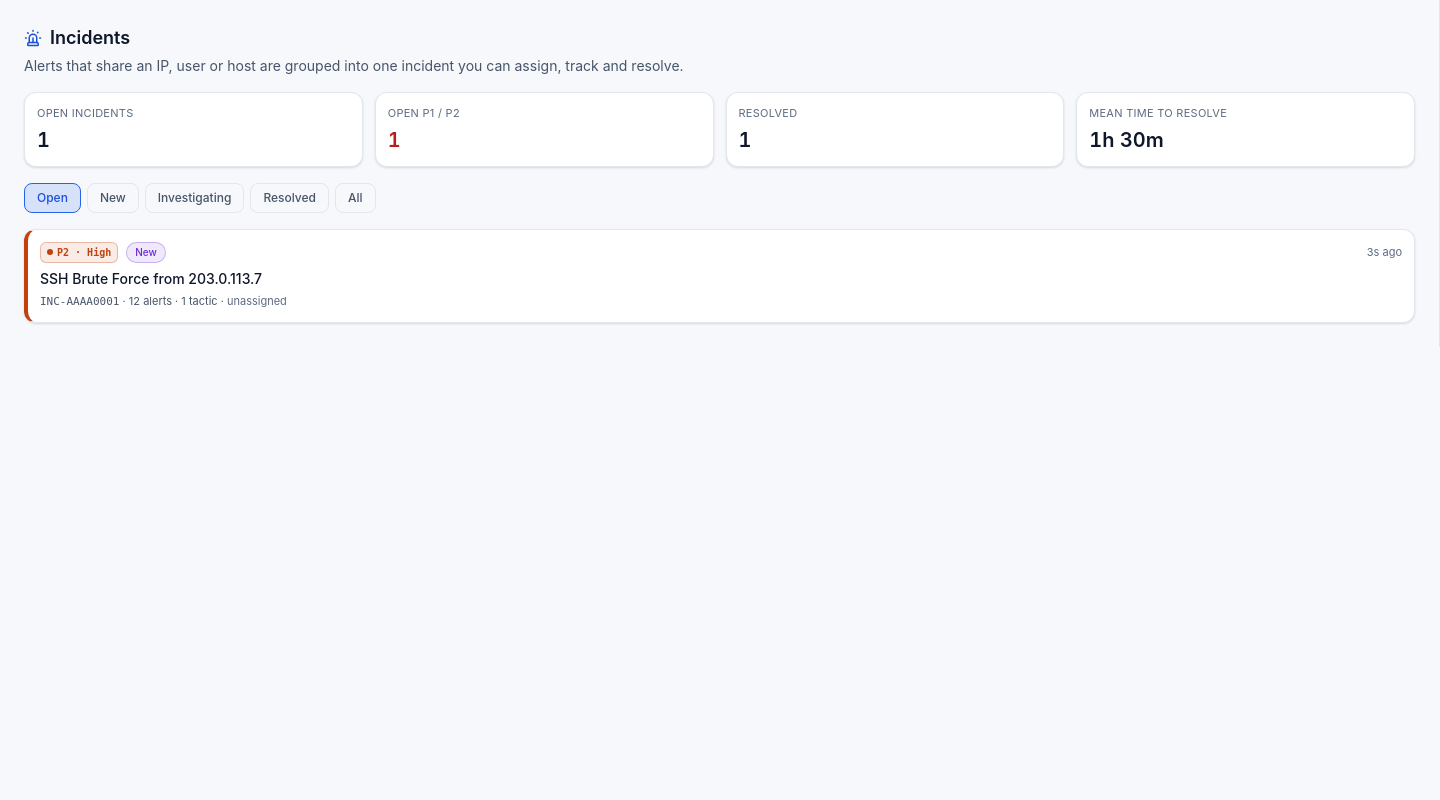
Incidents page › filters by an entity from the detail view
The width and height of the screenshot is (1440, 800).
Click the text "SSH Brute Force from 203.0.113.7". click: (151, 278)
box: [40,270,262,286]
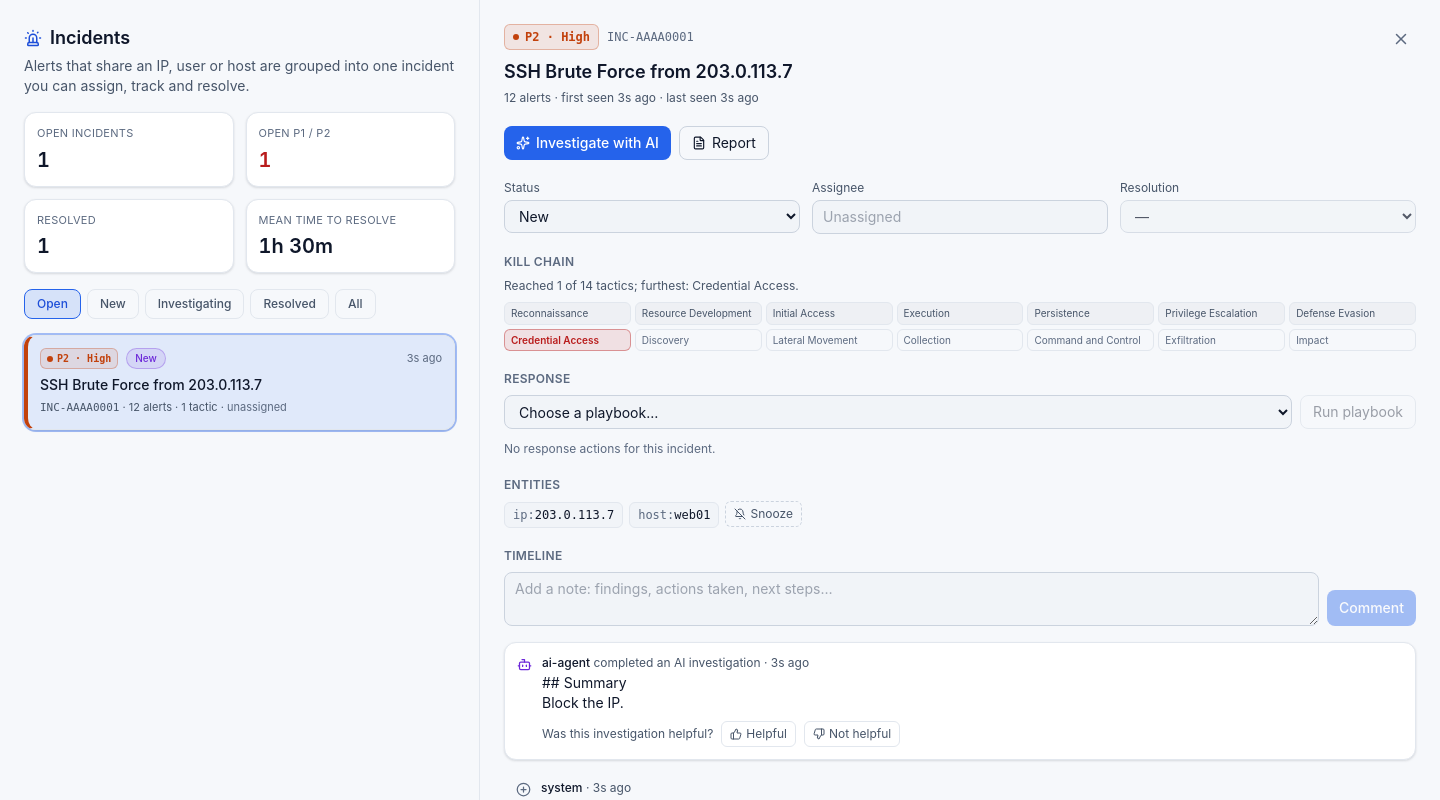
Click the button "ip:203.0.113.7". click: (564, 515)
box: [504,502,623,528]
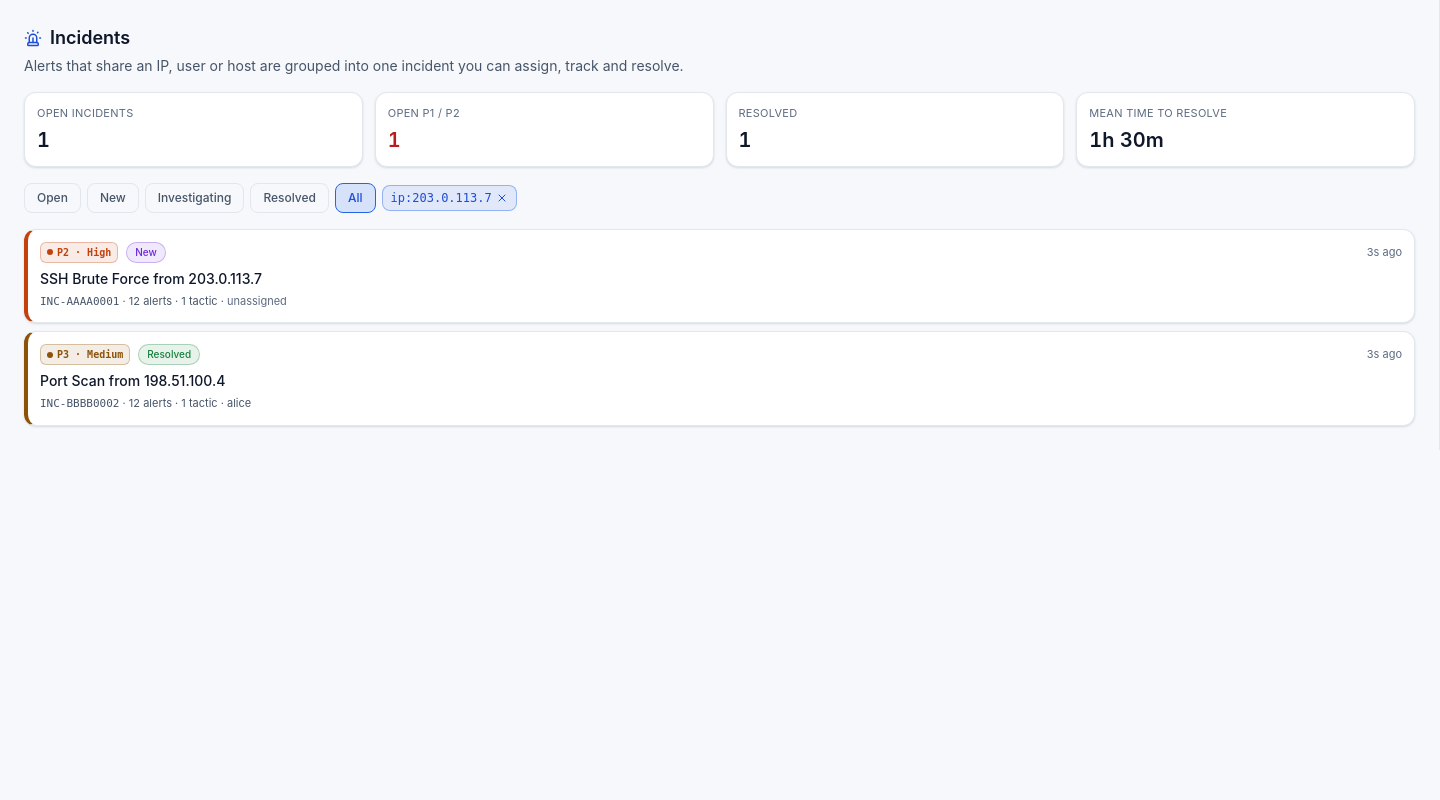
Result: the button named "Clear filter ip:203.0.113.7" is shown at [496,192,508,204]
